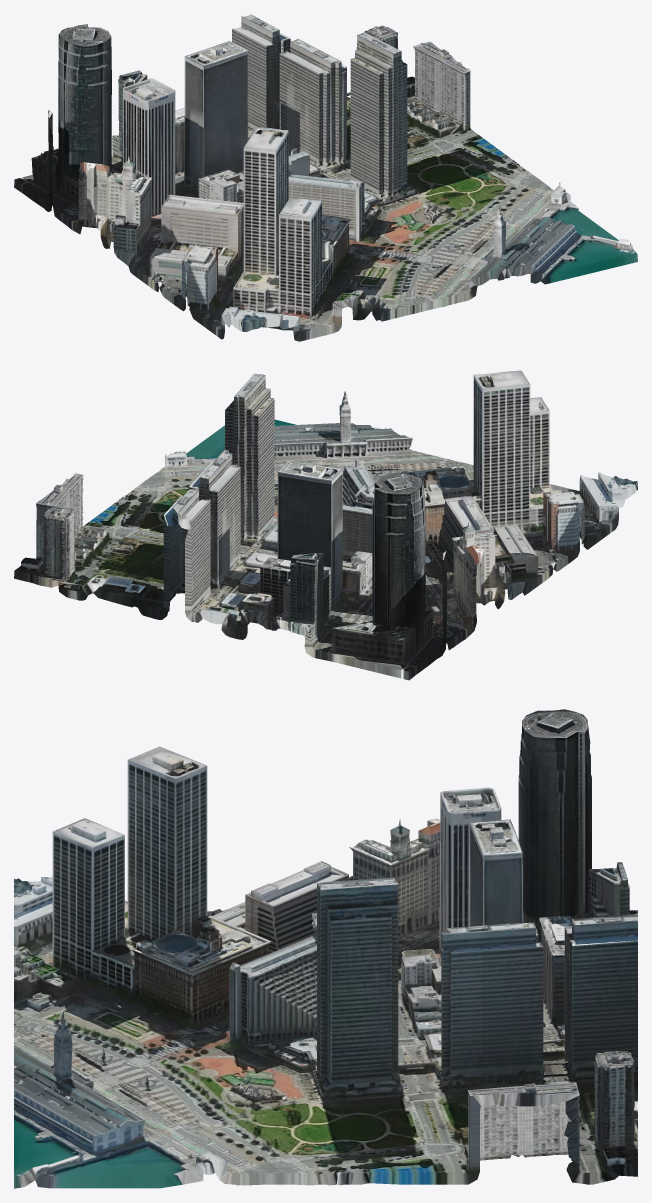
The model's file is z16-10486-25326-h0-yup-uvflip-v3-world.glb.
3 views of the same model, one above another, from view 1: azimuth 30°, elevation 25°; view 2: azimuth 150°, elevation 25°; view 3: azimuth 270°, elevation 25° (orthographic). The views are drawn at different scales.
Bounding box in the file's own units: 484 × 200 × 485.
Materials: 1 (1 with a texture image).
